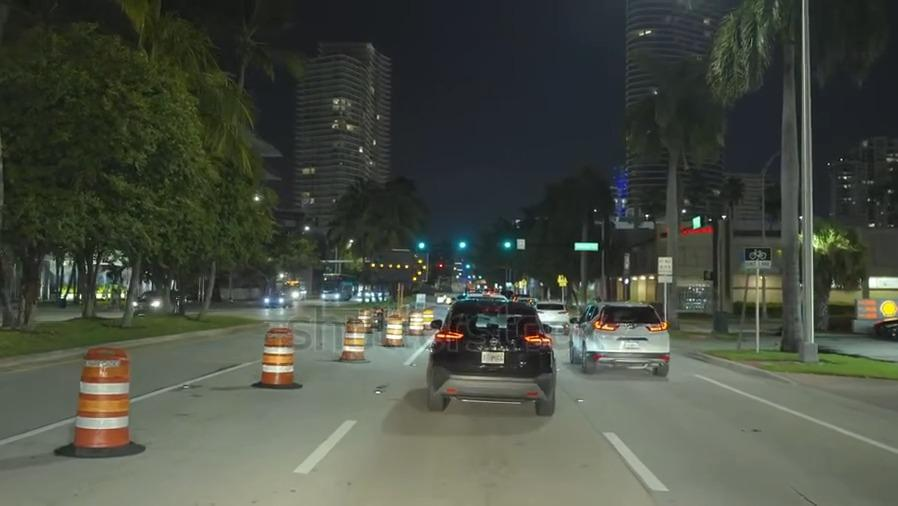arrow traffic sign: (367, 251, 431, 283)
bus: (318, 270, 353, 303), (281, 278, 307, 301)
car: (430, 298, 559, 412), (571, 300, 672, 383), (130, 284, 179, 317), (534, 294, 570, 335), (263, 289, 289, 307)
cone: (73, 344, 131, 450), (261, 323, 294, 384), (340, 316, 365, 363), (384, 312, 403, 347), (356, 305, 373, 335), (405, 309, 422, 338), (421, 307, 434, 329)
traffic light: (497, 234, 518, 257), (452, 233, 472, 255), (413, 233, 431, 255)
